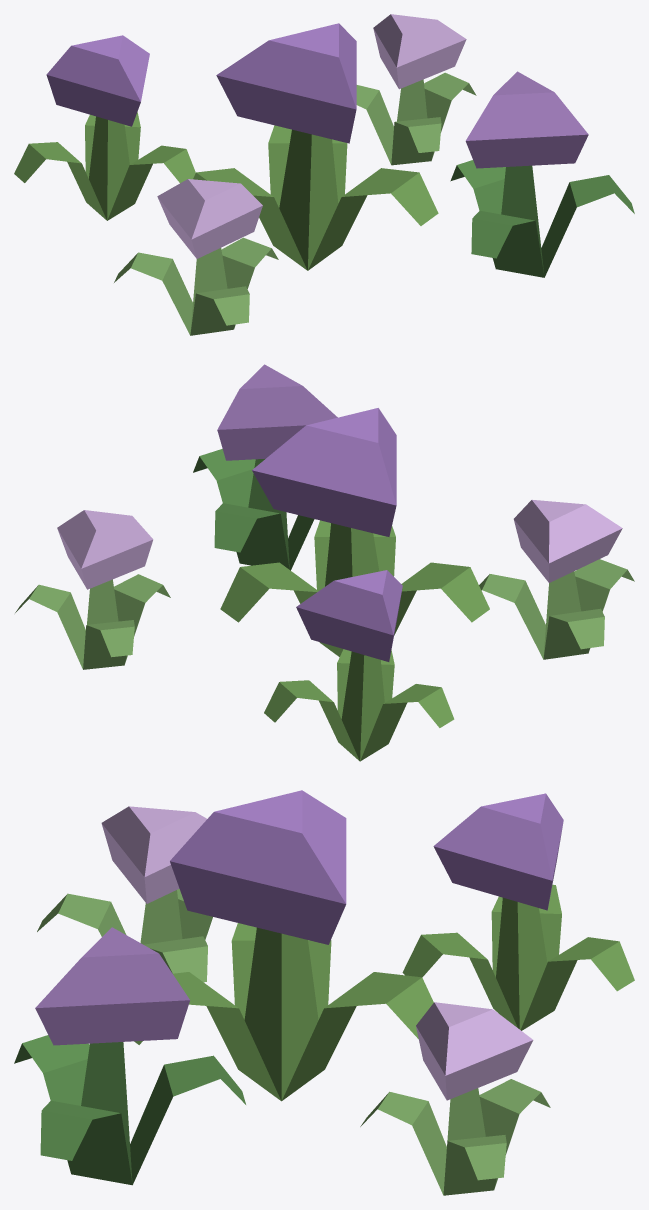
File: veg_wildflower_purple.glb
3 views of the same model, one above another, from view 1: azimuth 30°, elevation 25°; view 2: azimuth 150°, elevation 25°; view 3: azimuth 270°, elevation 25° (orthographic). The views are drawn at different scales.
Visible parts, largest first — view 1: clump_0, clump_2, clump_3, clump_1, clump_4; view 2: clump_0, clump_3, clump_2, clump_1, clump_4; view 3: clump_0, clump_2, clump_3, clump_4, clump_1.
Boxes of the visible parts, x1,y1,x2,y2 form: clump_0: (193,23,438,270); clump_2: (450,71,634,277); clump_3: (14,35,195,220); clump_1: (114,179,278,335); clump_4: (356,14,476,165); clump_0: (220,408,489,656); clump_3: (264,570,454,761); clump_2: (193,364,337,570); clump_1: (479,499,634,659); clump_4: (15,510,170,669); clump_0: (134,790,433,1101); clump_2: (14,927,245,1185); clump_3: (402,793,634,1030); clump_4: (360,1002,550,1195); clump_1: (37,806,212,982).
Bounding box in the file's own units: 0.5885 × 0.2606 × 0.5411.
